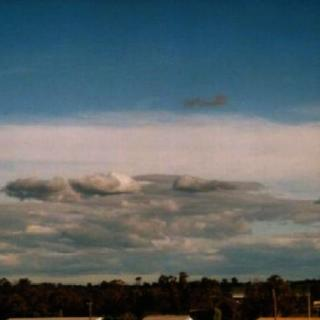Cirrostratus: (0, 101, 320, 272)
